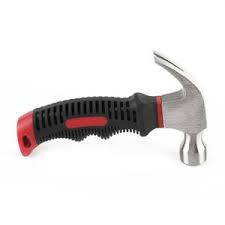hammer: (15, 49, 209, 167)
